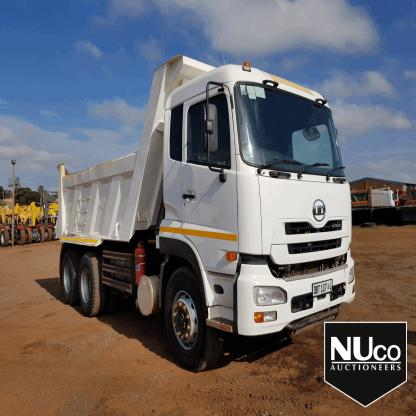dump_truck: (52, 42, 366, 373)
